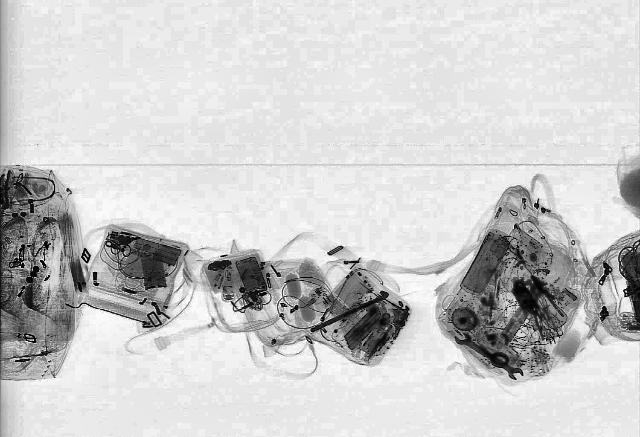Wrench: (449, 330, 529, 384)
